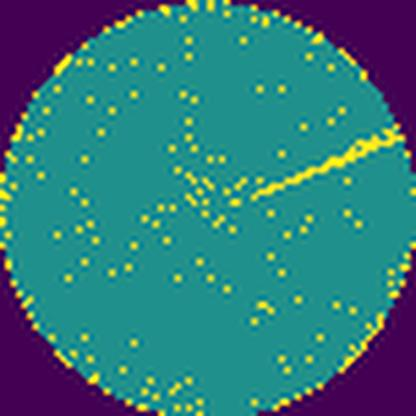Scratch: (245, 124, 407, 204)
